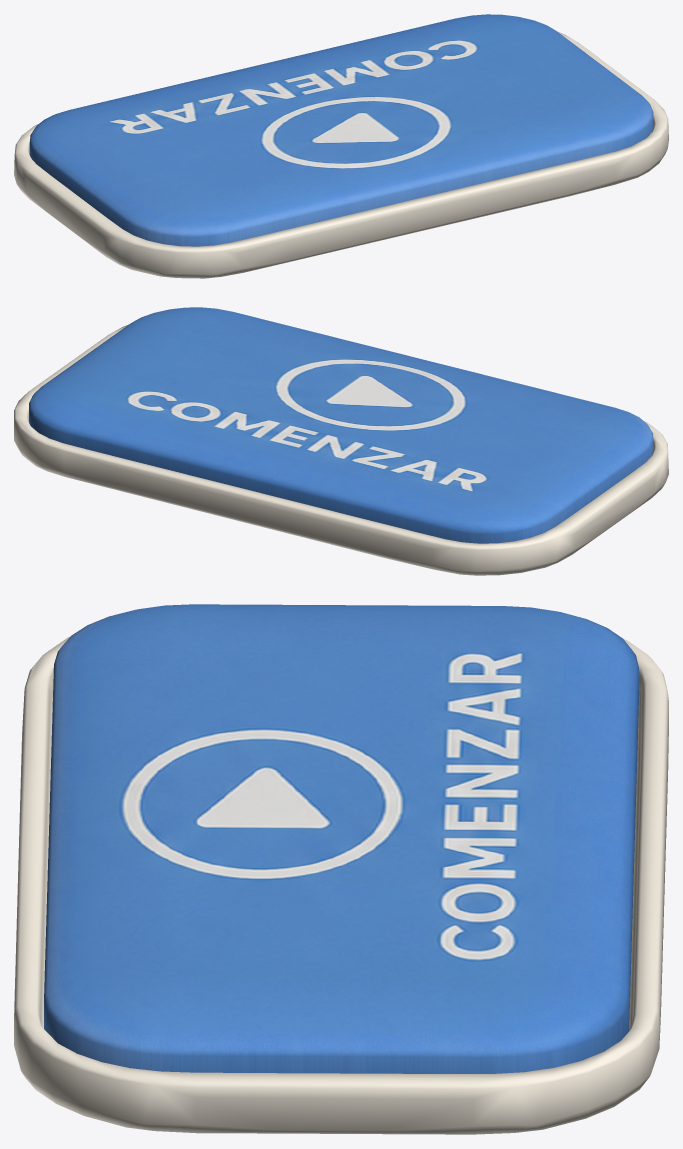
Rendered from pulsador-comenzar.glb.
The picture shows the model from 3 angles, top to bottom: view 1: azimuth 30°, elevation 25°; view 2: azimuth 150°, elevation 25°; view 3: azimuth 270°, elevation 25°; orthographic projection. The views are drawn at different scales.
Parts seen in each view (by area): view 1: ChamferBox003, ChamferBox004; view 2: ChamferBox003, ChamferBox004; view 3: ChamferBox003, ChamferBox004.
Part boxes in pixels (x1,y1,x2,y2): ChamferBox003: (29, 14, 653, 246); ChamferBox004: (14, 32, 668, 278); ChamferBox003: (29, 307, 653, 543); ChamferBox004: (14, 324, 668, 575); ChamferBox003: (44, 604, 638, 1073); ChamferBox004: (14, 636, 668, 1134).
Size of the model in its own units: 0.259 by 0.0228 by 0.1499.
Materials: 2 (1 with a texture image).
